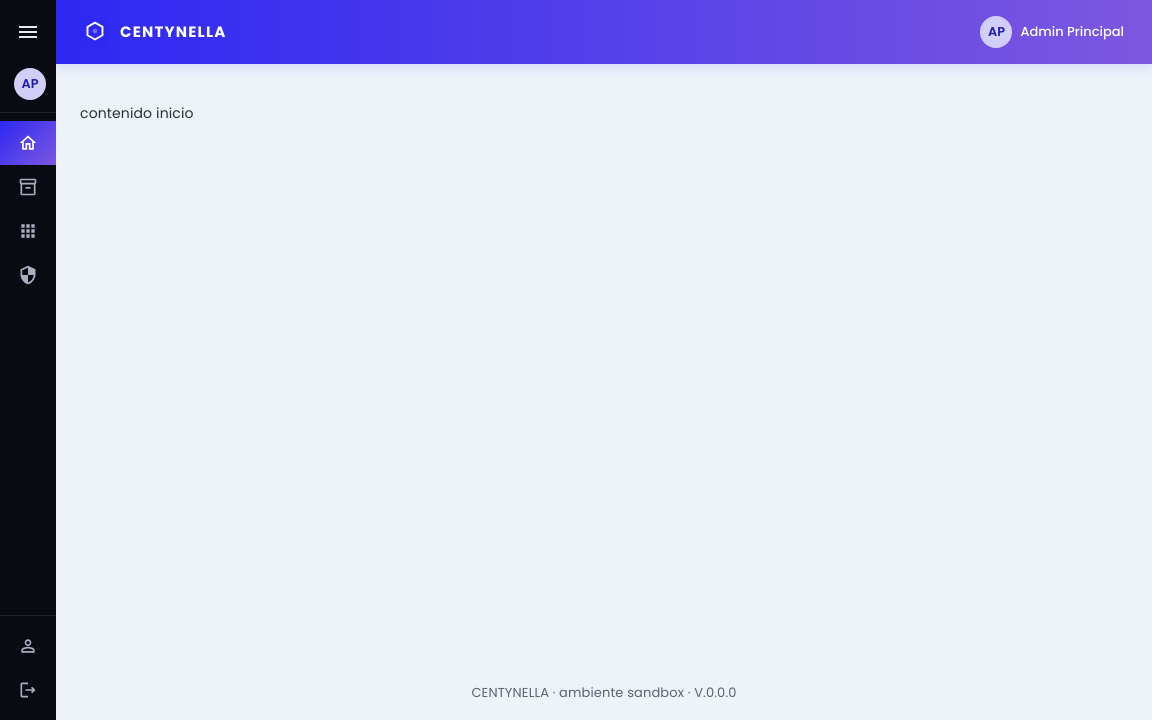
Test case: <ShellLayout /> — menú lateral (riel + extendido) › se extiende con el botón de menú y muestra usuario, textos, ambiente y versión
Click the button named "Abrir menú": (28, 32) 8,12 -> 48,52
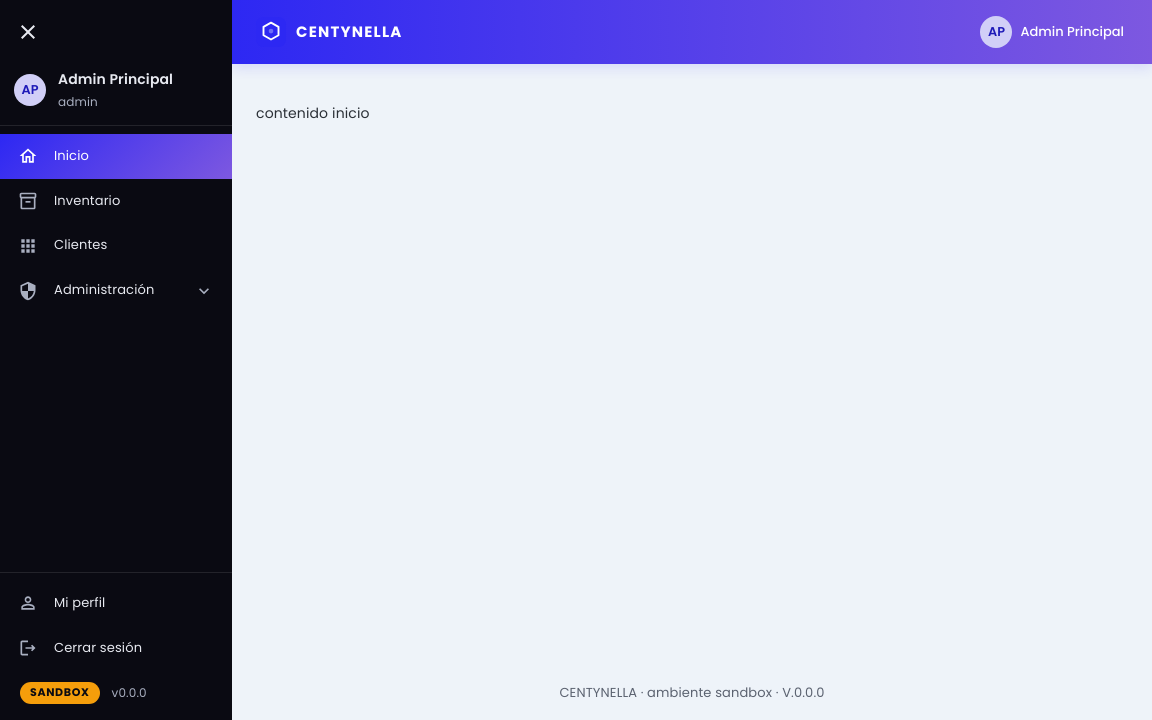
expect the button named "Cerrar menú" is expanded: met, box 8,12 -> 48,52
expect the 2nd text "Admin Principal" is shown: met, box 58,68 -> 173,90
expect the text "admin" is shown: met, box 58,93 -> 98,110
